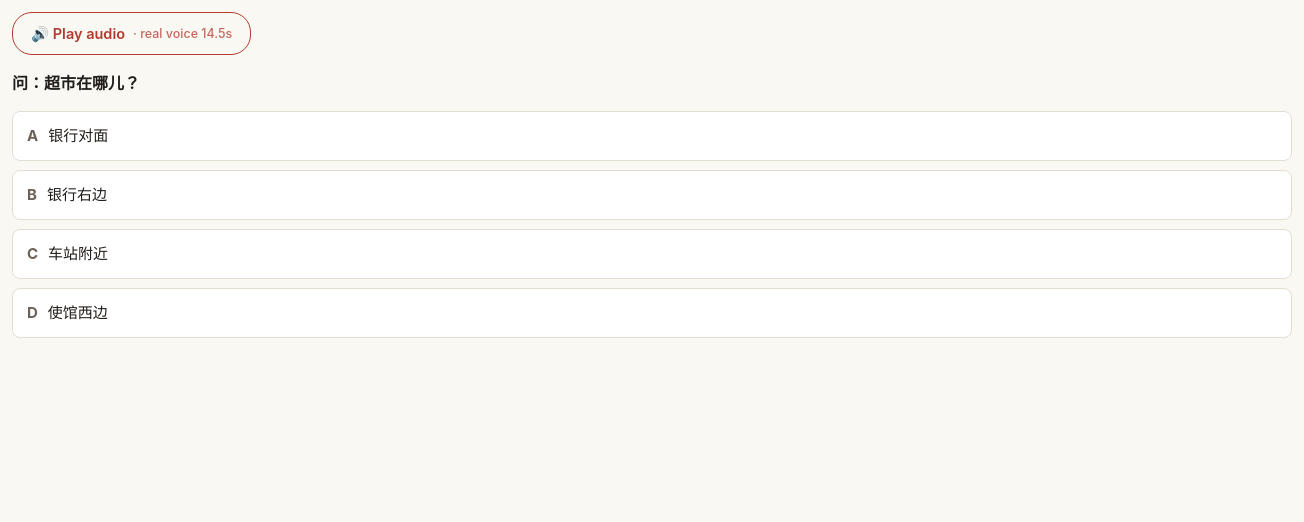
Test case: MultipleChoiceQuestionComponent › uses the C letter in the solution for a C answer
This screenshot has width=1304, height=522.
Click the button with class "optbtn" showing "A 银行对面" at (78, 135), box [12, 111, 1292, 161]
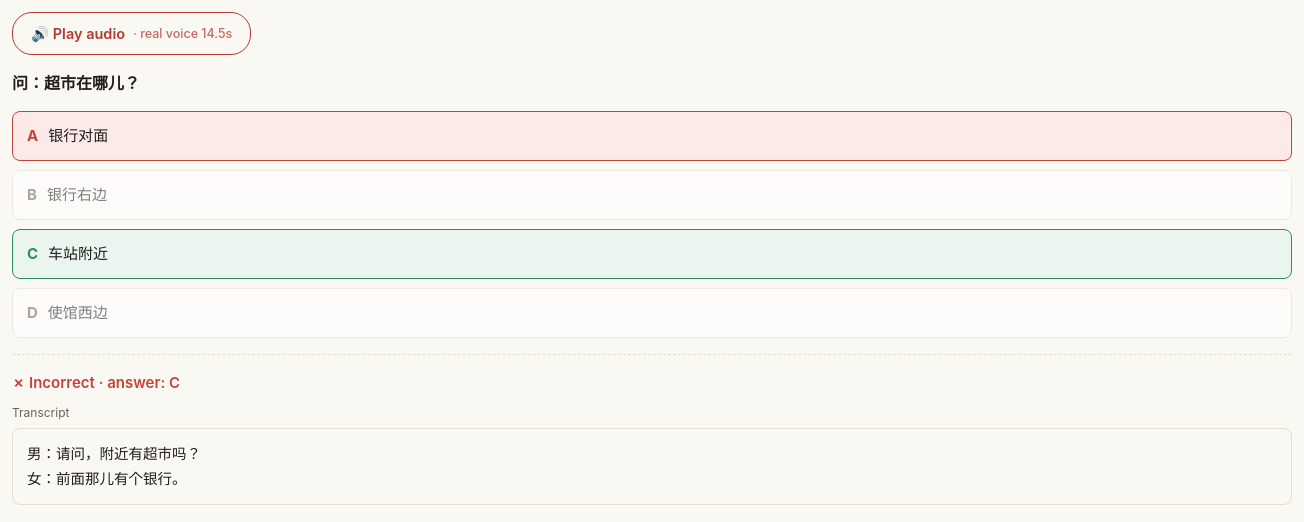
Expected: the text with class "bad" shows "answer: C", [12, 373, 180, 392]
